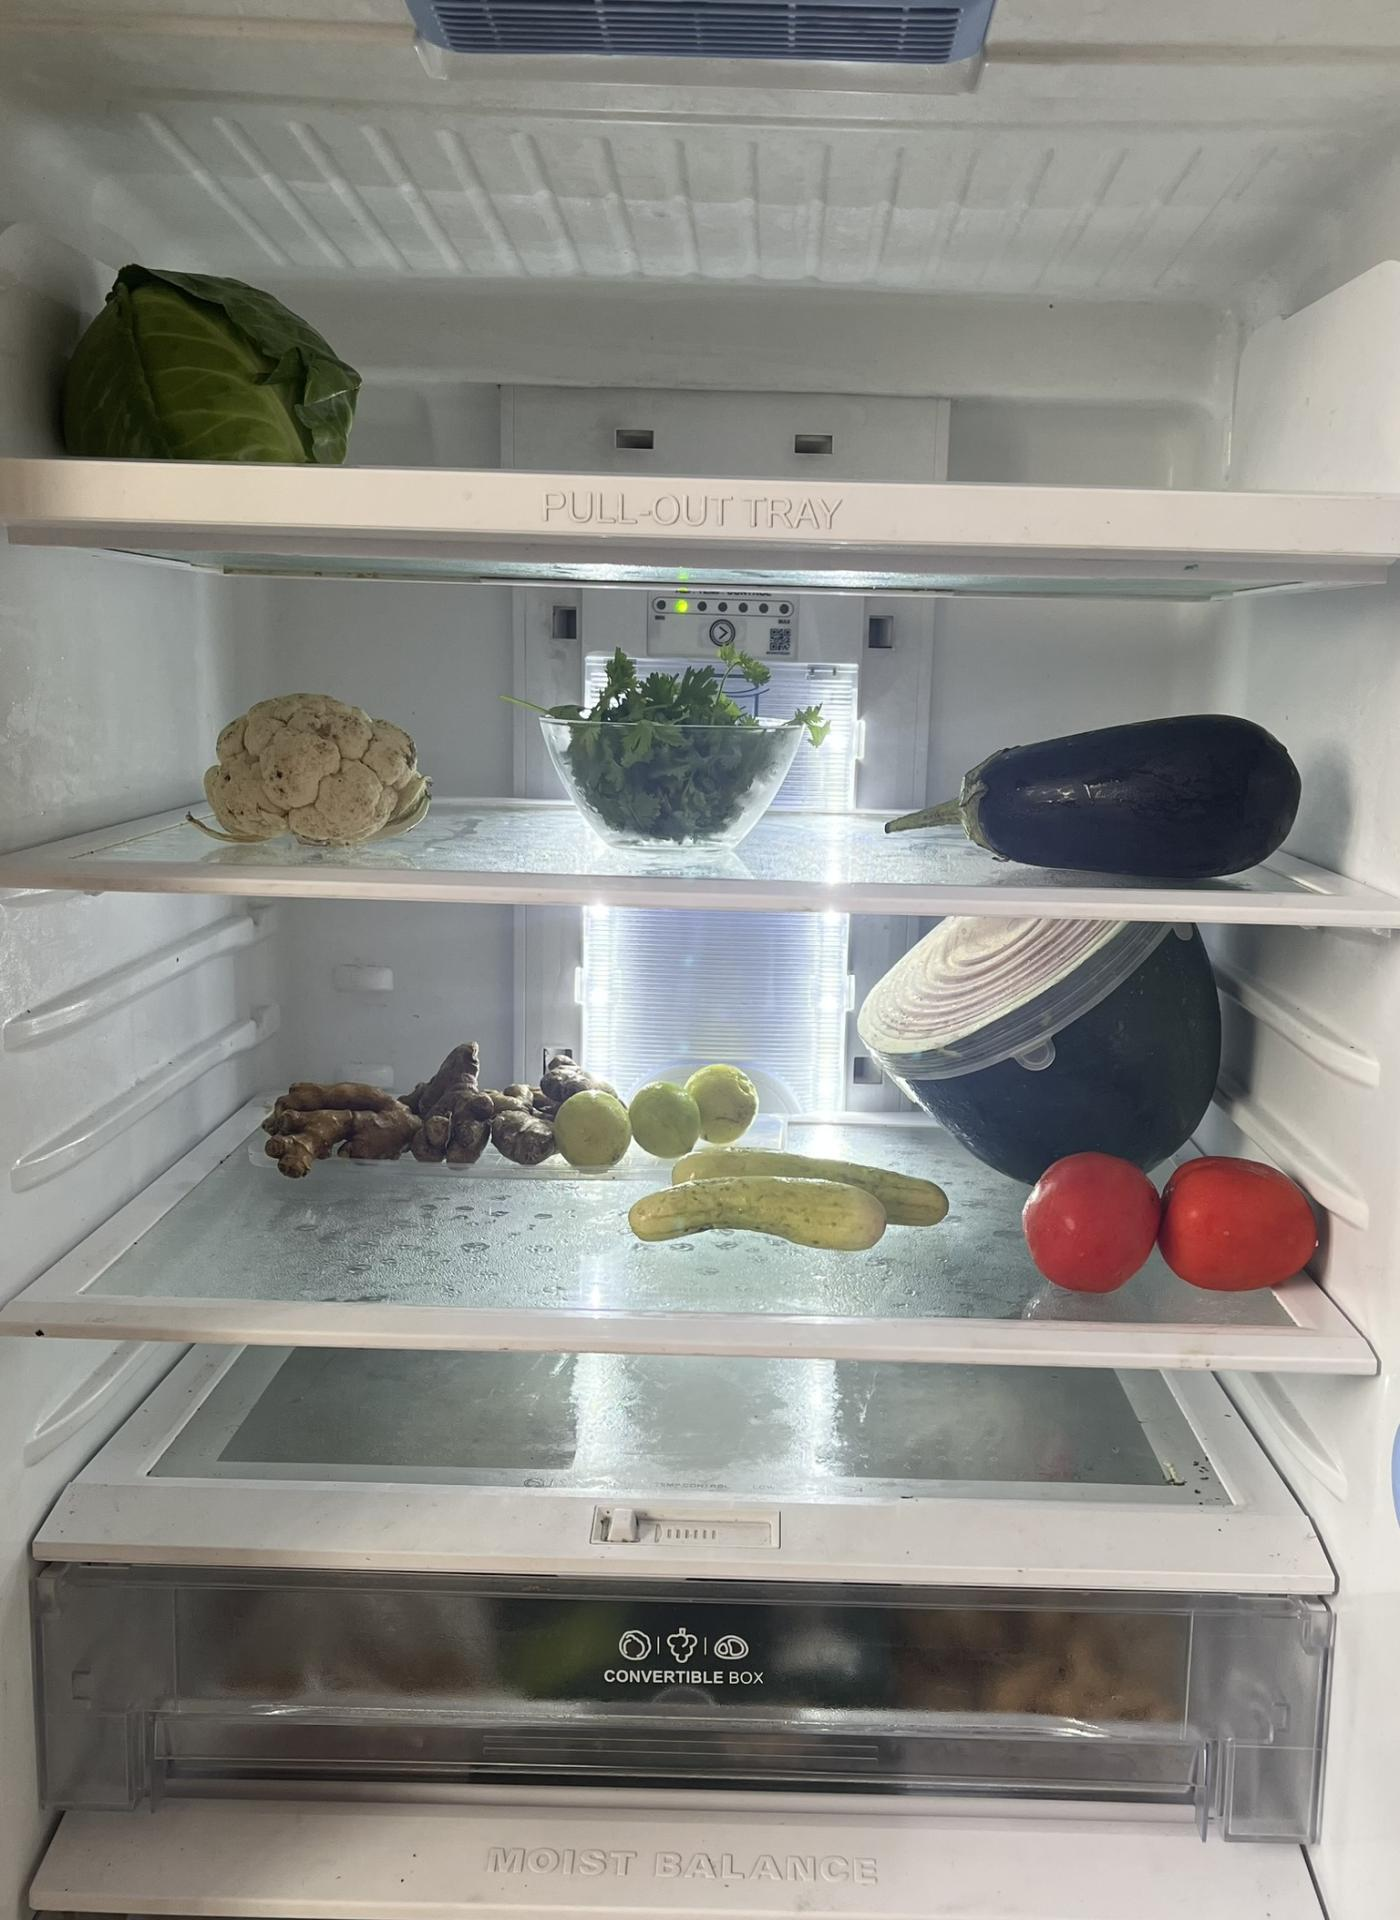cabbage: (70, 273, 368, 465)
cauliflower: (221, 690, 423, 865)
coriander: (549, 657, 814, 847)
cucumber: (614, 1143, 959, 1243)
ginger: (271, 1029, 567, 1181)
lemon: (550, 1052, 759, 1166)
tomato: (1023, 1145, 1315, 1297)
watermelon: (863, 926, 1232, 1193)
